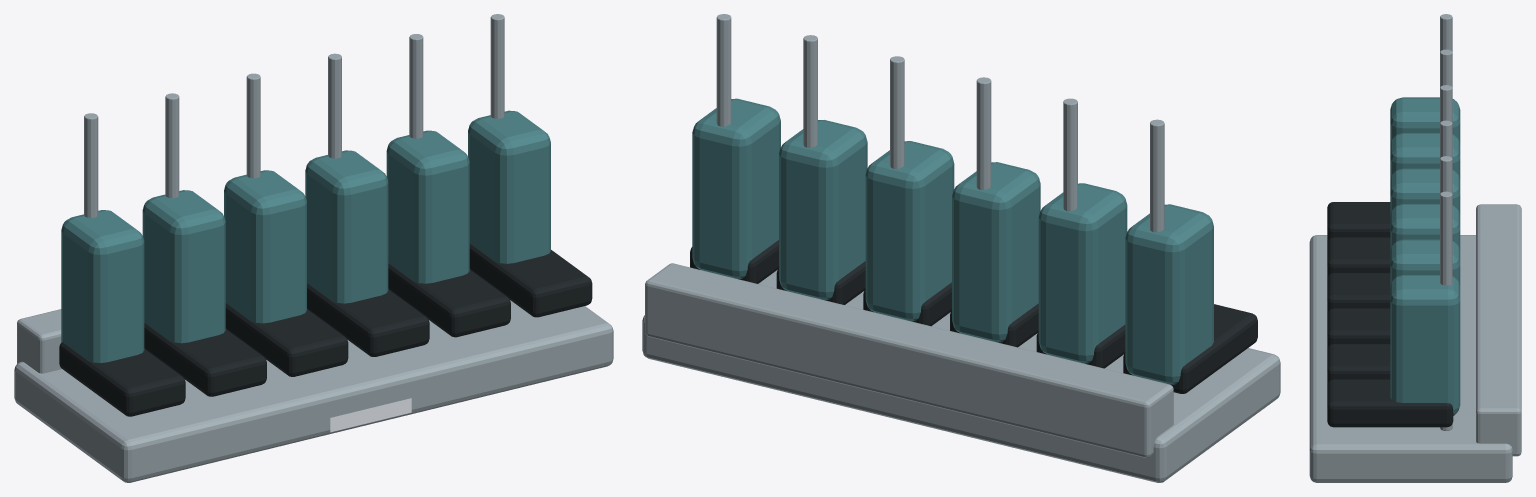
The model's file is SF_BootDryingRack.fbx.
3 views of the same model, side by side, from view 1: azimuth 30°, elevation 25°; view 2: azimuth 150°, elevation 25°; view 3: azimuth 270°, elevation 25° (orthographic). The views are drawn at different scales.
Parts seen in each view (by area): view 1: SF_BootDryingRack; view 2: SF_BootDryingRack; view 3: SF_BootDryingRack.
Boxes of the visible parts, x1=… form: SF_BootDryingRack: x1=14, y1=14, x2=613, y2=482; SF_BootDryingRack: x1=642, y1=14, x2=1280, y2=482; SF_BootDryingRack: x1=1309, y1=14, x2=1521, y2=482.
Bounding box in the file's own units: 145 × 86 × 60.58.
